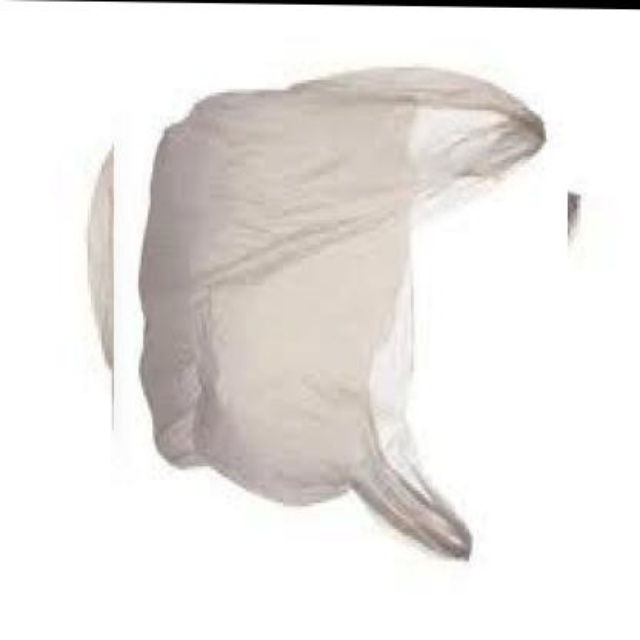trash: (138, 68, 545, 555)
